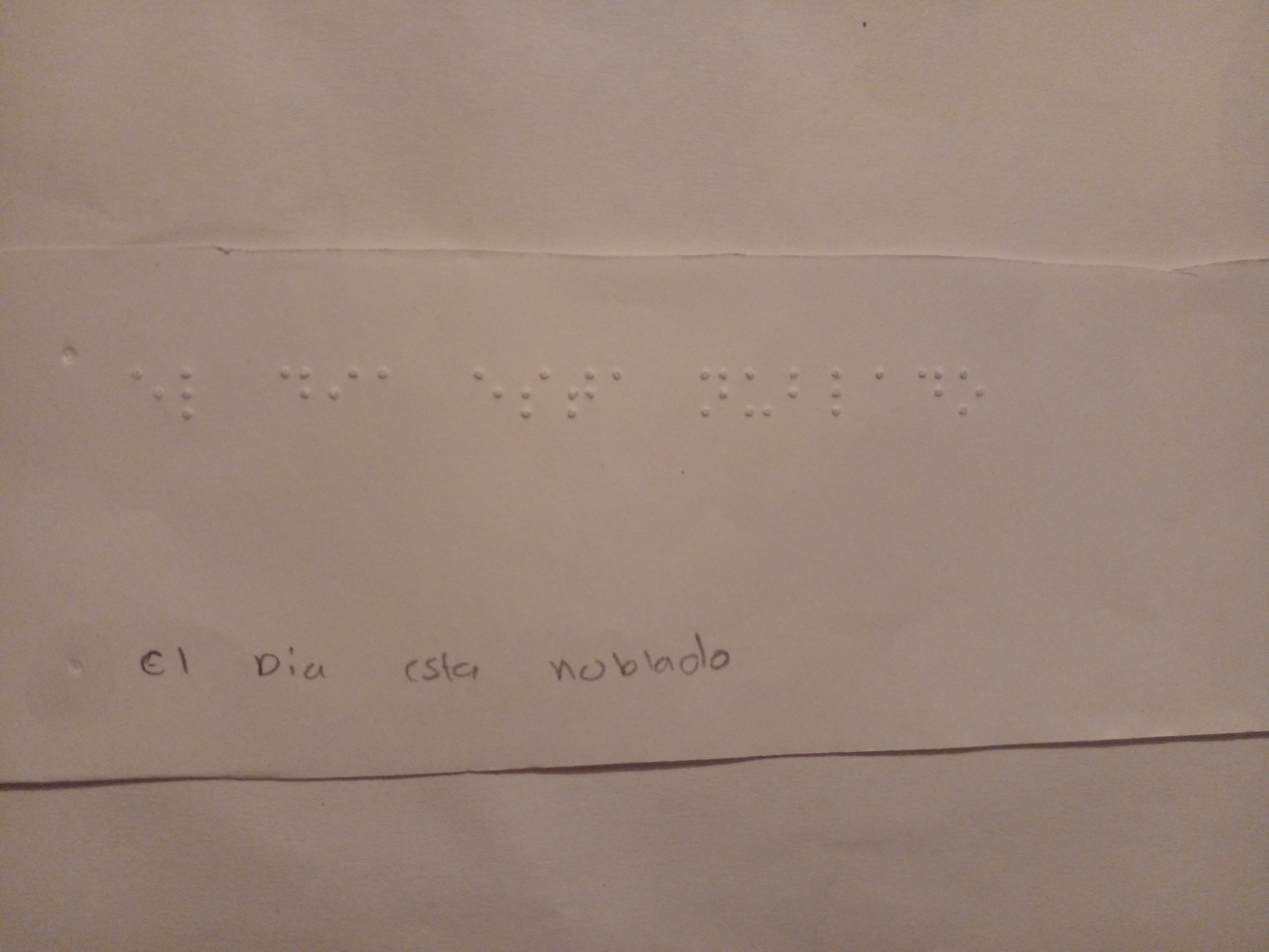a: (863, 349, 906, 417), (601, 352, 638, 428), (372, 353, 406, 425)
b: (775, 338, 809, 431)
d: (265, 325, 319, 431), (908, 342, 957, 425)
e: (115, 359, 178, 432), (466, 356, 522, 434)
i: (324, 361, 362, 435)
l: (164, 353, 211, 443), (818, 353, 860, 432)
n: (696, 352, 736, 434)
o: (950, 352, 991, 439)
s: (514, 355, 559, 434)
t: (561, 353, 604, 440)
u: (736, 352, 782, 446)
